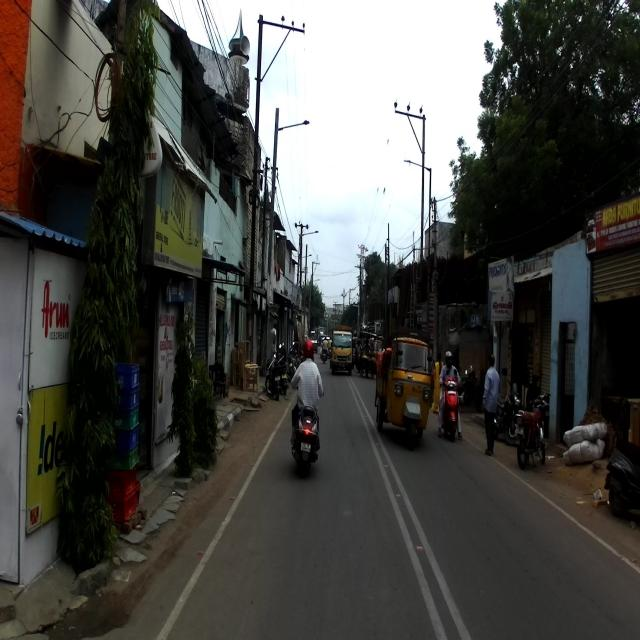autorickshaw: (374, 332, 435, 450)
motorcycle_HeroHonda: (492, 377, 522, 444)
motorcycle_bajaj: (514, 391, 548, 471)
scooter: (289, 384, 324, 478), (603, 436, 640, 522), (439, 369, 464, 442)
truck: (330, 326, 354, 375)
